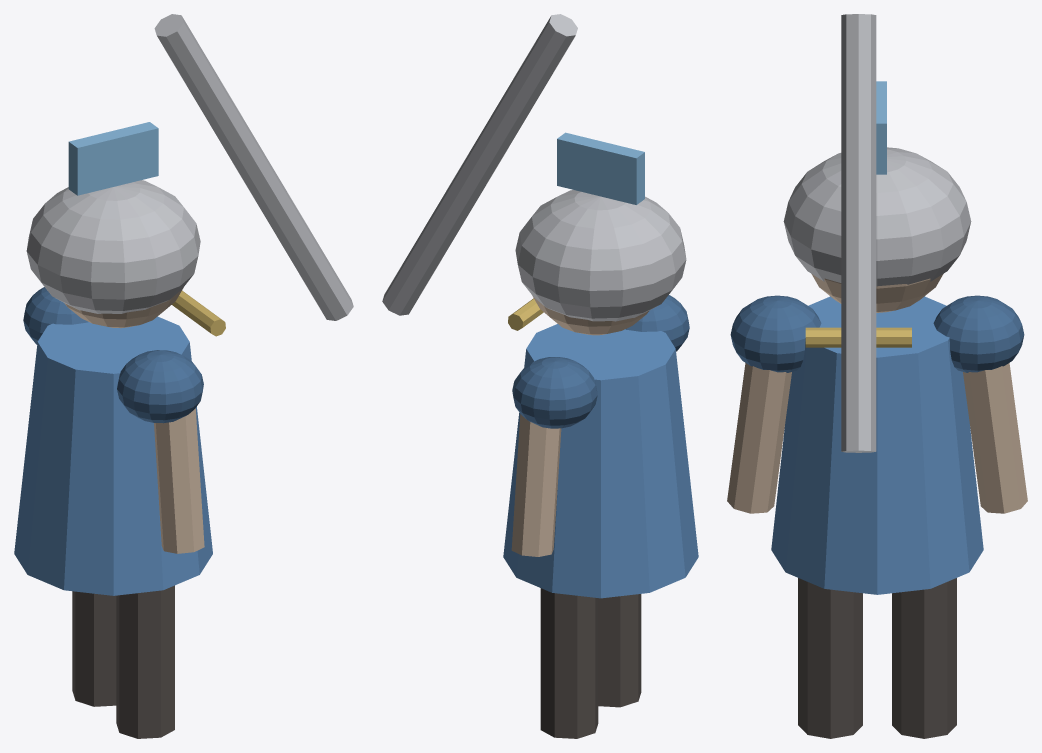
File: hero_aldar_1.glb
The picture shows the model from 3 angles, left to right: view 1: azimuth 30°, elevation 25°; view 2: azimuth 150°, elevation 25°; view 3: azimuth 270°, elevation 25°; orthographic projection. The views are drawn at different scales.
Parts seen in each view (by area): view 1: figurka; view 2: figurka; view 3: figurka.
Part boxes in pixels (x1,y1,x2,y2): figurka: [14, 14, 353, 738]; figurka: [382, 14, 698, 738]; figurka: [727, 14, 1027, 738].
Size of the model in its own units: 0.6224 by 1.3 by 0.4814.
